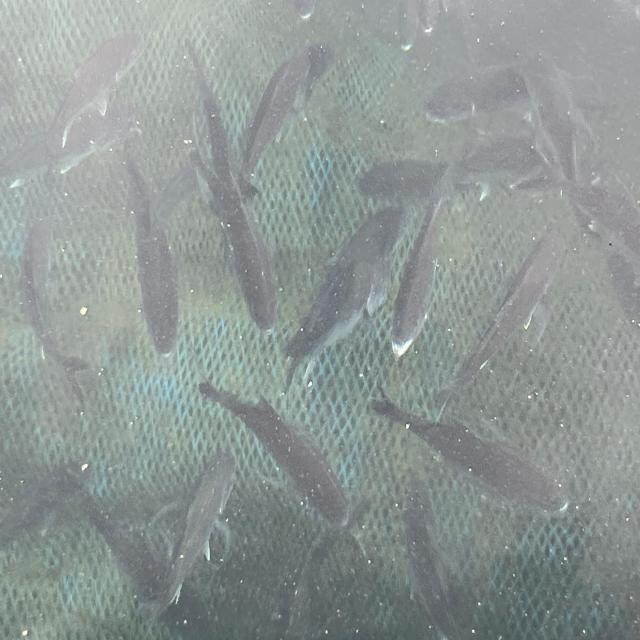ikan: (370, 373, 590, 525), (187, 112, 298, 332), (205, 368, 362, 522), (116, 175, 200, 350), (373, 201, 457, 355)
